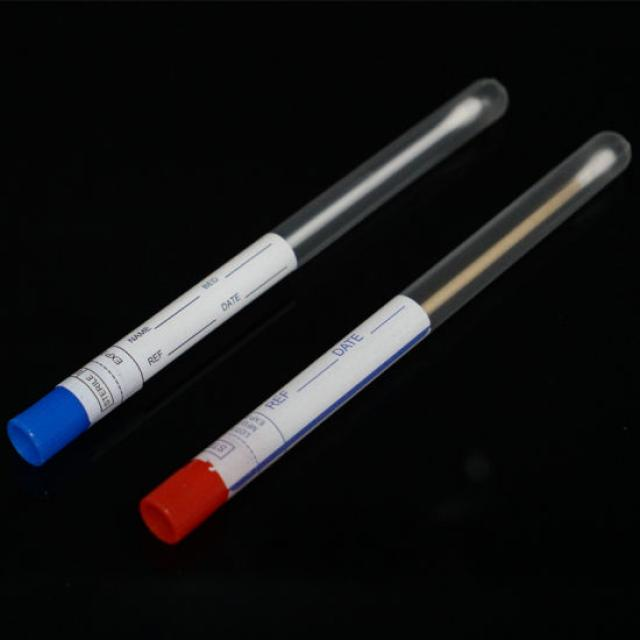B3: (140, 127, 637, 596), (8, 75, 515, 488)
